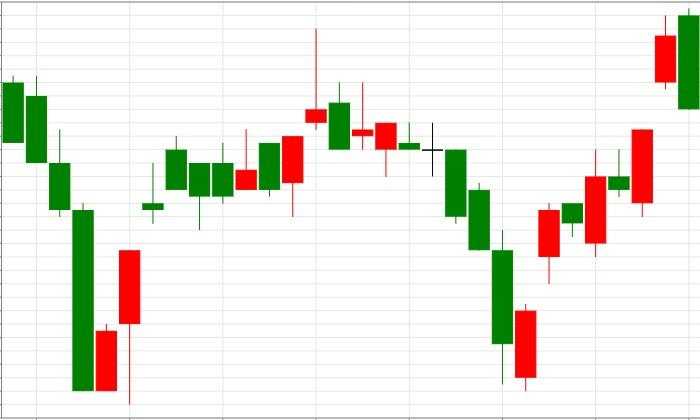bearish_engulfing_fall: (514, 8, 700, 392)
shooting_star_fall: (94, 29, 328, 405)
